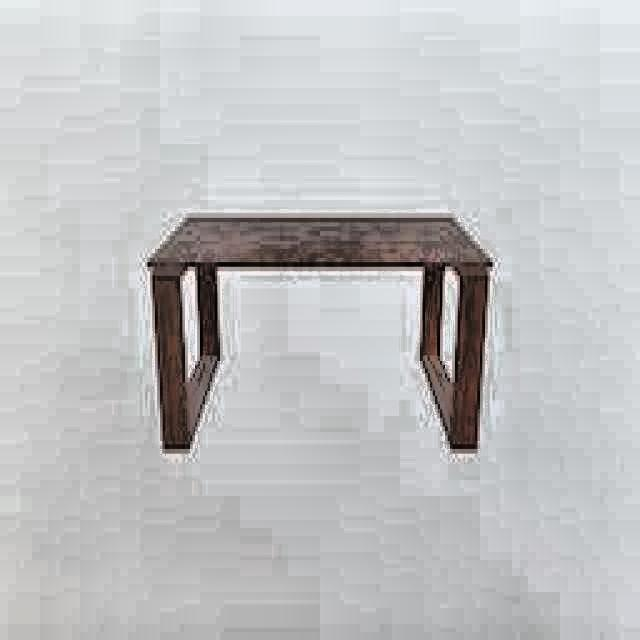mesa: (147, 211, 496, 463)
